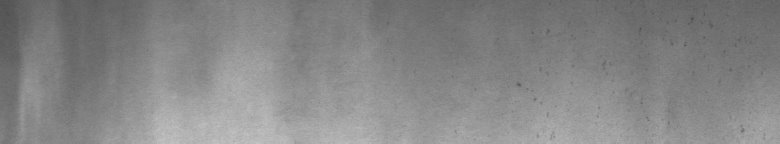ib: (508, 17, 745, 136)
